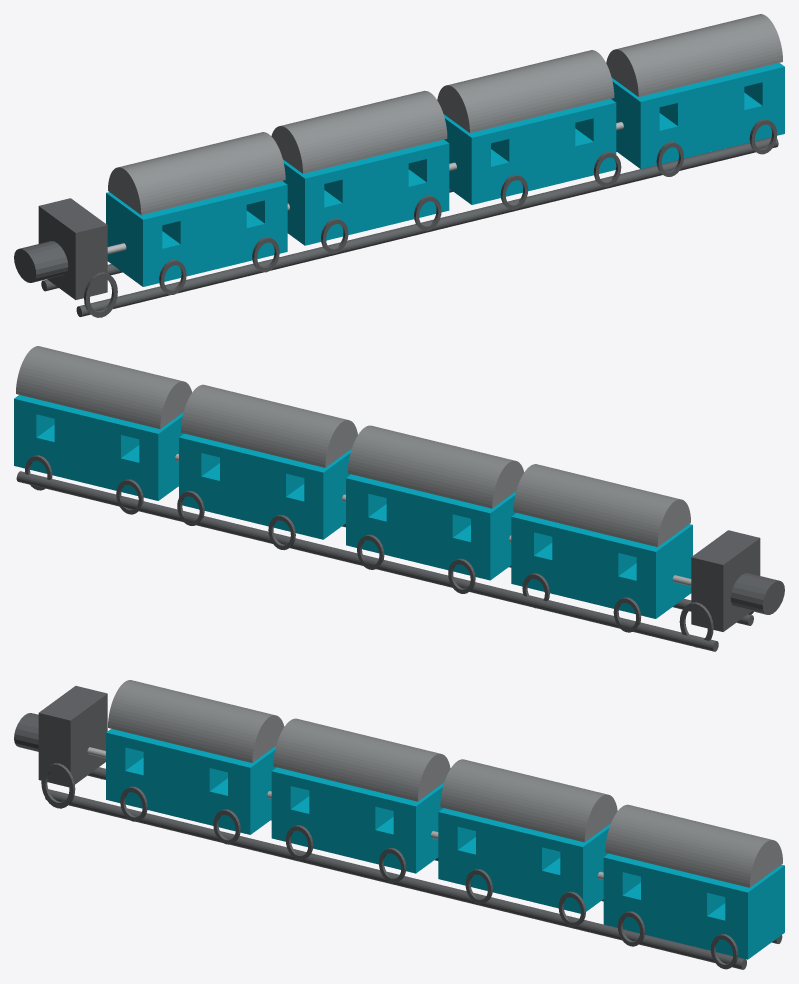
Rendered from Smashing Bruticus-Bombul (1).glb.
The picture shows the model from 3 angles, top to bottom: view 1: azimuth 30°, elevation 25°; view 2: azimuth 150°, elevation 25°; view 3: azimuth 330°, elevation 25°; orthographic projection.
Parts seen in each view (by area): view 1: Mesh_Mesh_head_geo.001_lambert2SG.001; view 2: Mesh_Mesh_head_geo.001_lambert2SG.001; view 3: Mesh_Mesh_head_geo.001_lambert2SG.001.
Boxes of the visible parts, x1=… form: Mesh_Mesh_head_geo.001_lambert2SG.001: x1=14, y1=14, x2=784, y2=317; Mesh_Mesh_head_geo.001_lambert2SG.001: x1=14, y1=346, x2=784, y2=651; Mesh_Mesh_head_geo.001_lambert2SG.001: x1=14, y1=680, x2=784, y2=969.
Bounding box in the file's own units: 231 × 37 × 25.
